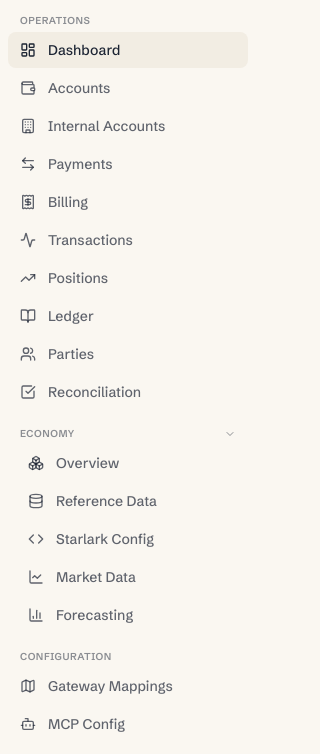
Sidebar › collapsible Economy group › expands Economy items when toggle is clicked again
Click the button "Economy". click: (128, 434)
box: [8,426,248,441]
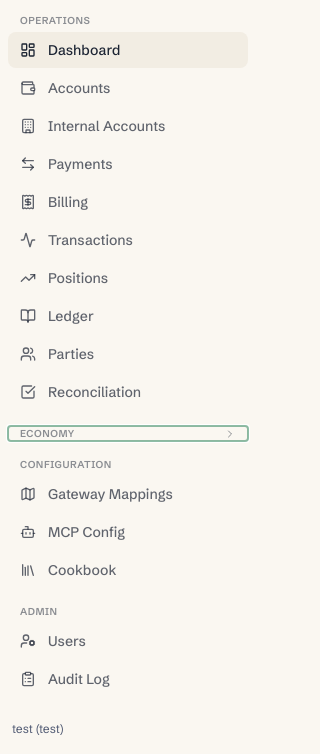
Click the button "Economy". click: (128, 434)
box: [8,426,248,441]
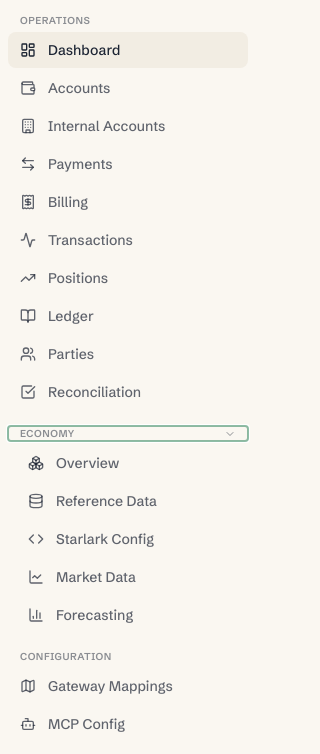
Check: the button "Economy" is expanded, box [8,426,248,441]
Check: the link "Overview" is shown, box [28,454,120,472]
